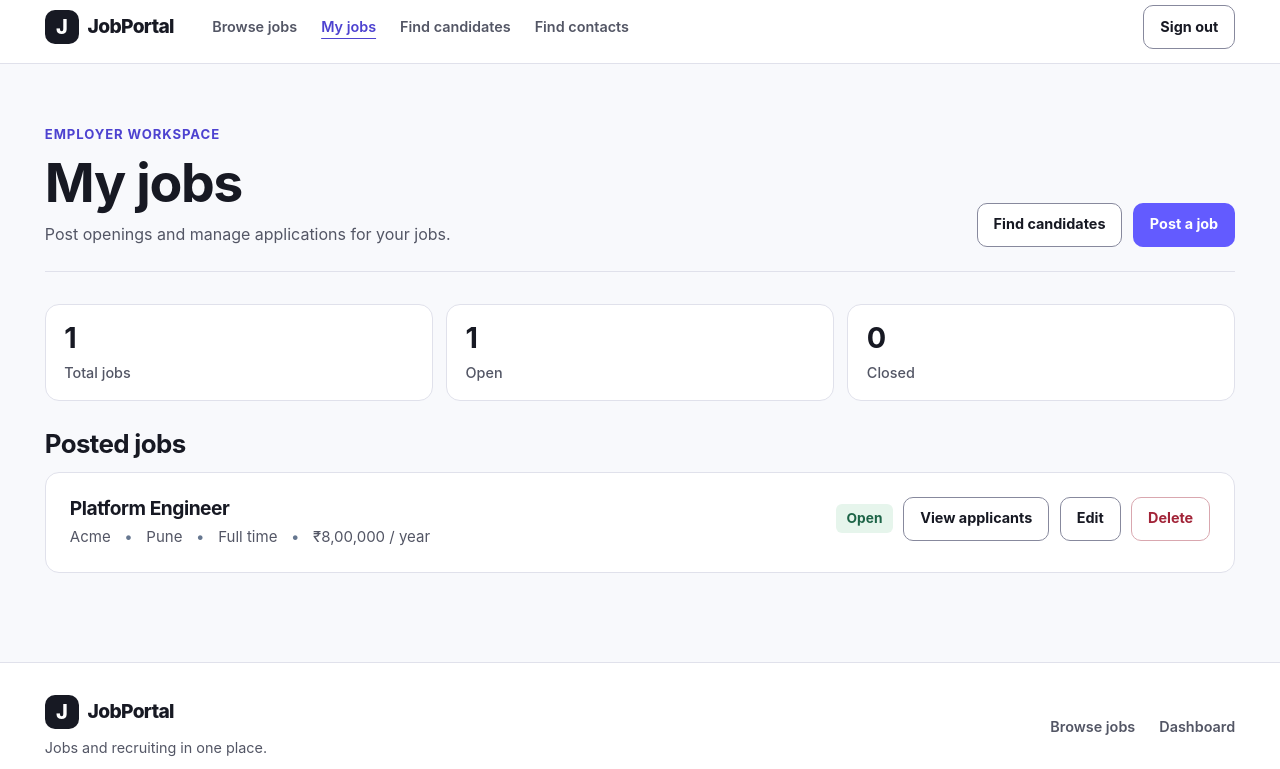
Scenario: employer edits a listing using the existing update contract
Click the button with aria-label "Edit job Platform Engineer". click: click(1090, 519)
box: [1060,497,1121,541]
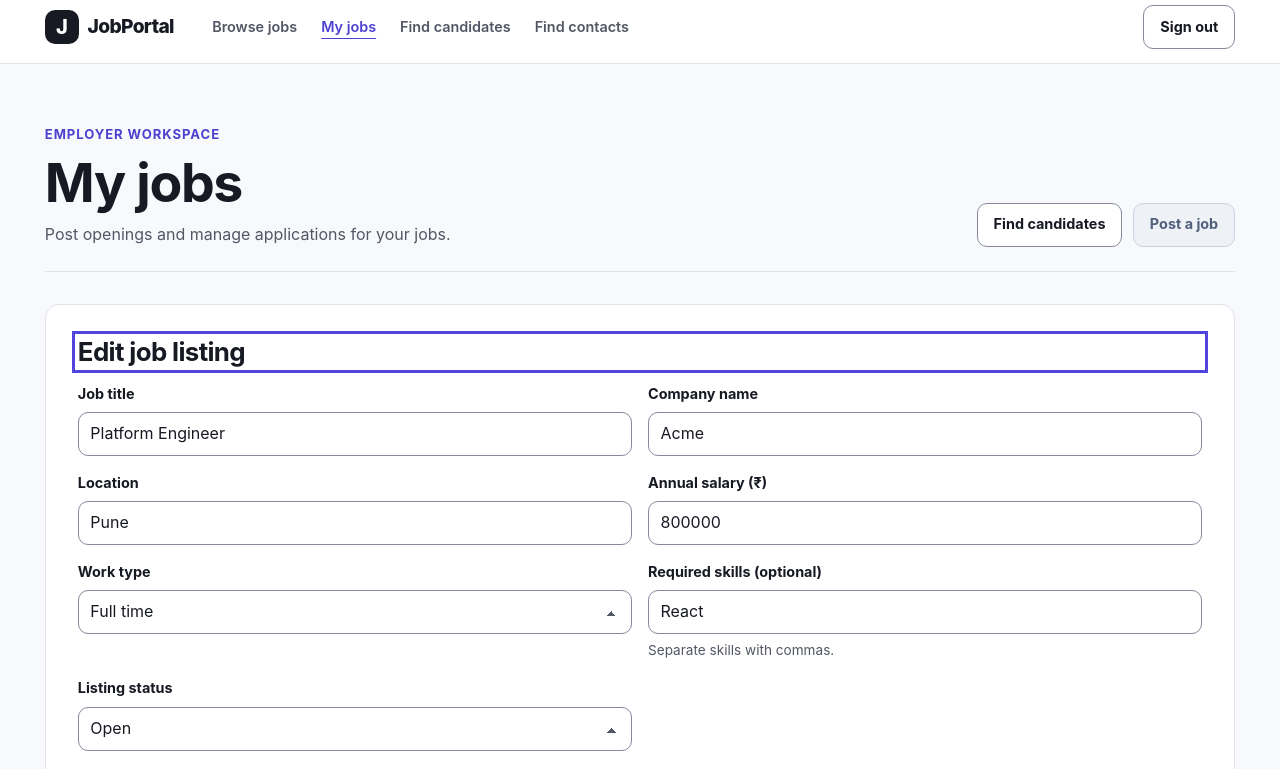
Expected: the field labelled "Job title" holds "Platform Engineer"
Replace the text in the field labelled "Job title" with "Senior Platform Engineer". click: (355, 434)
box: [78,412,632,456]
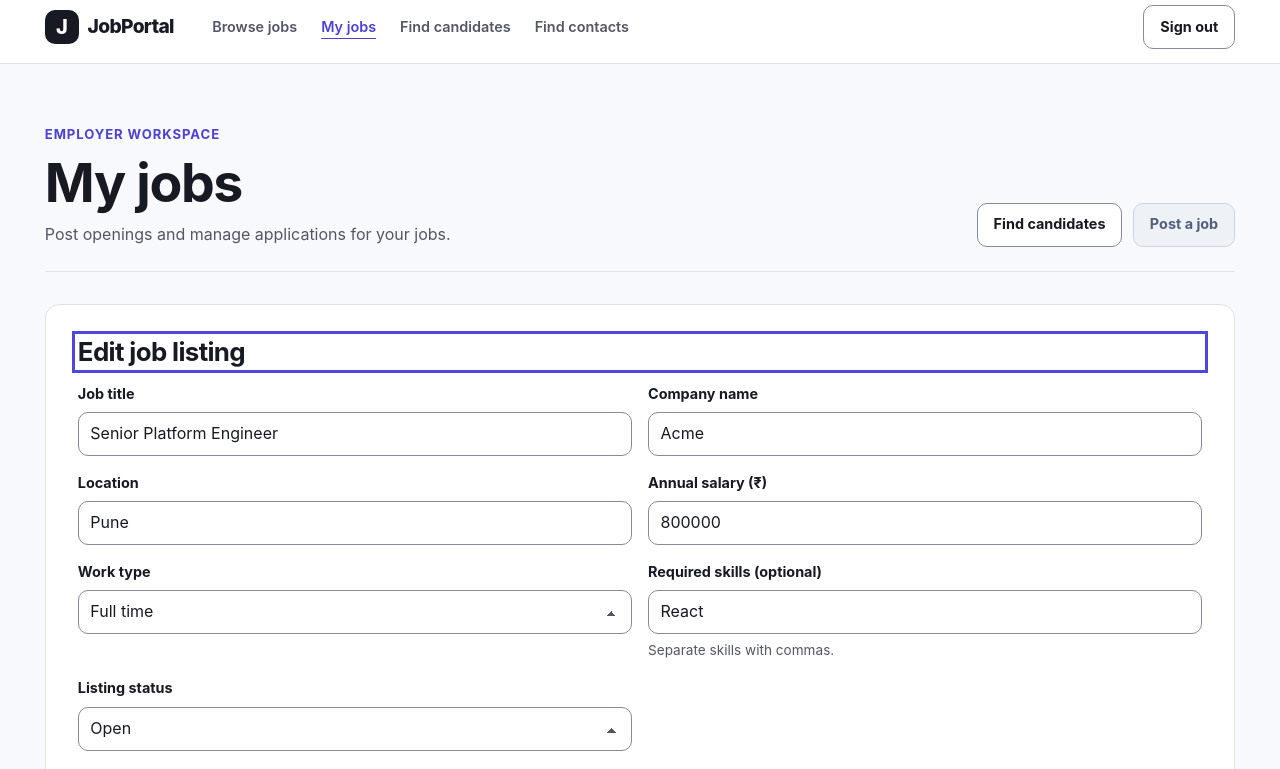
Select "Closed" in the dropdown labelled "Listing status". click: (355, 728)
box: [78,706,632,750]
(page scrolled)
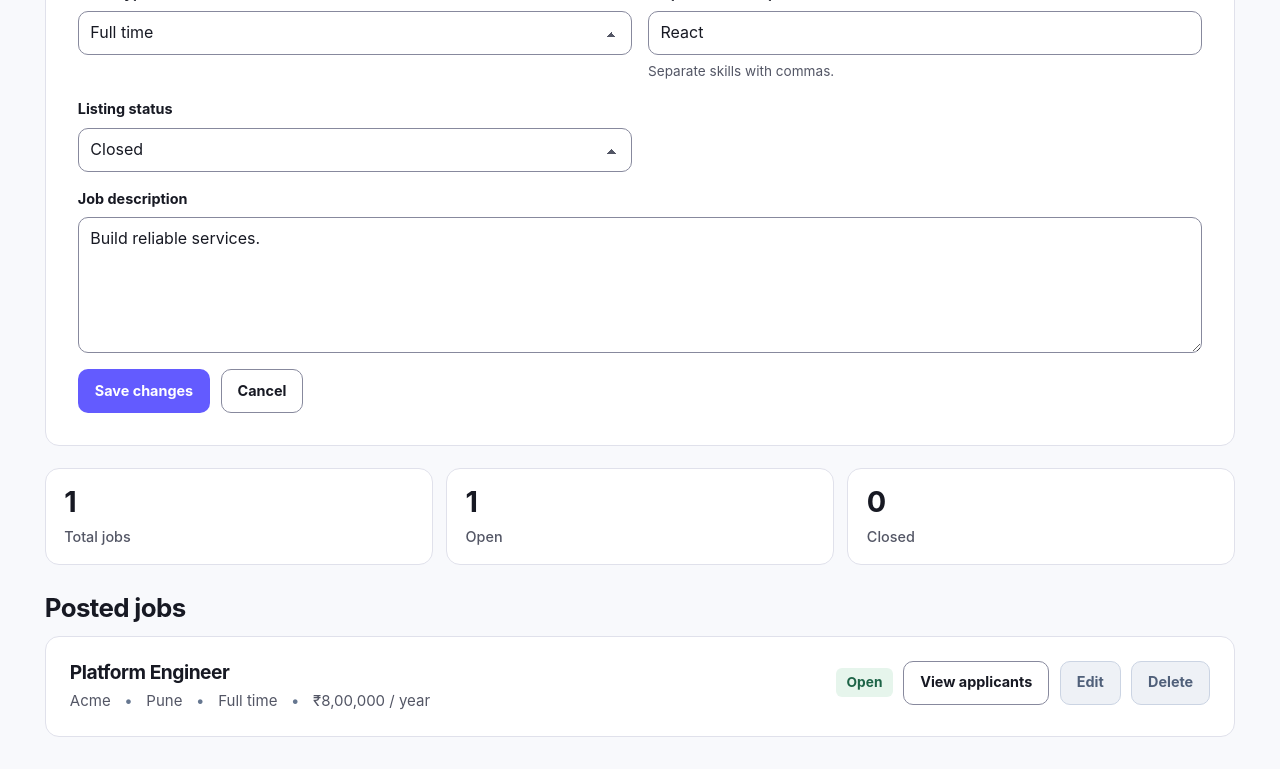
Click the button "Save changes". click: click(144, 391)
box: [78,369,210,413]
(page scrolled)
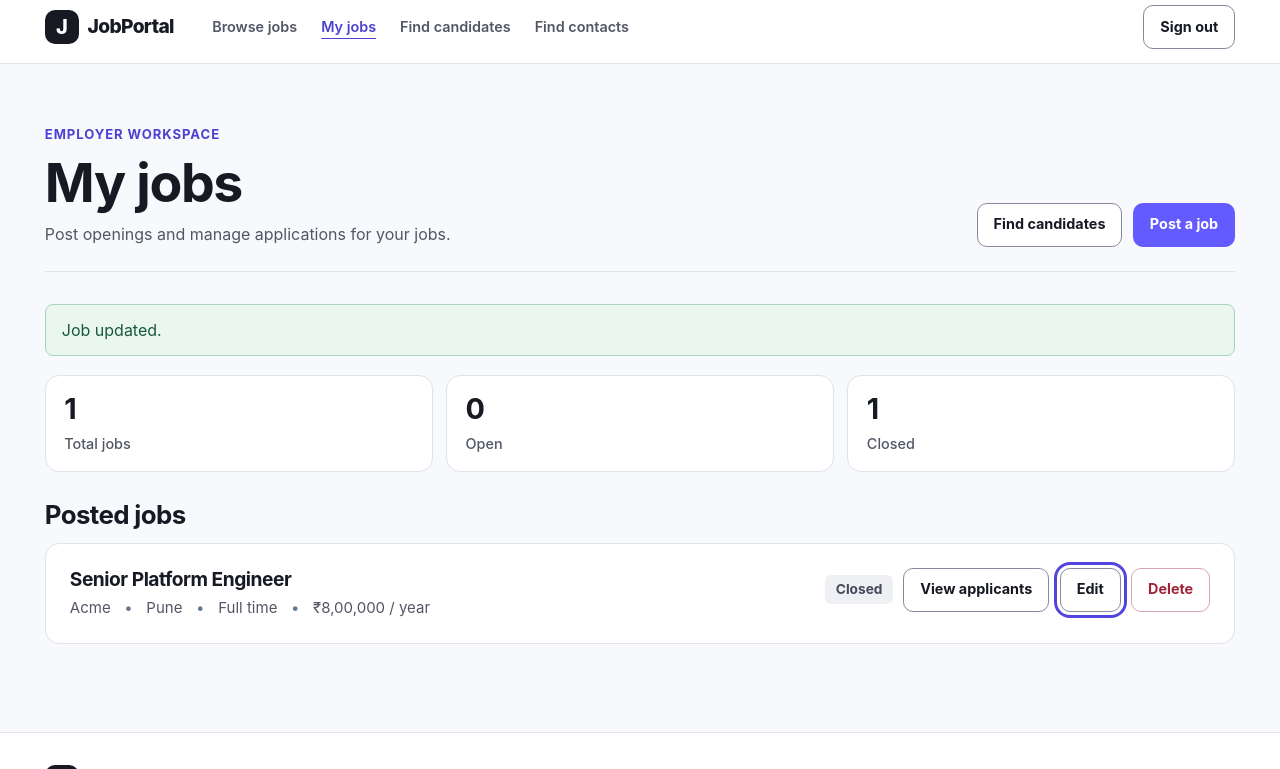
Expected: the link "Senior Platform Engineer" is shown, [70,567,291,591]
